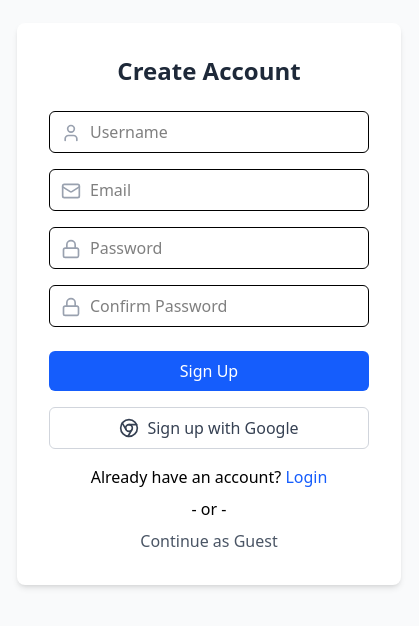
Test case: UserSignup Component › handles signup error with default message
Type "testuser" into the field with placeholder "Username" at (209, 132), box x1=49 y1=111 x2=369 y2=153
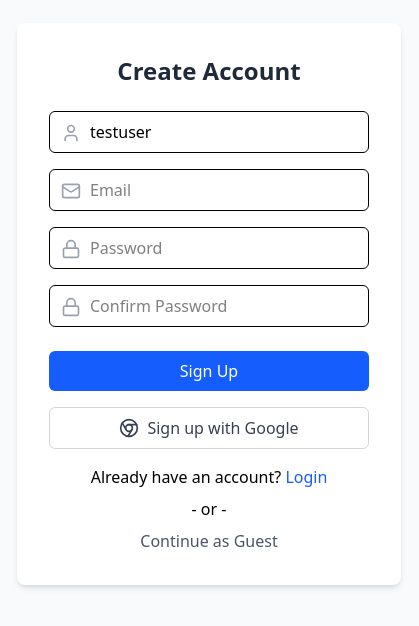
Type "test@example.com" into the field with placeholder "Email" at (209, 190), box x1=49 y1=169 x2=369 y2=211
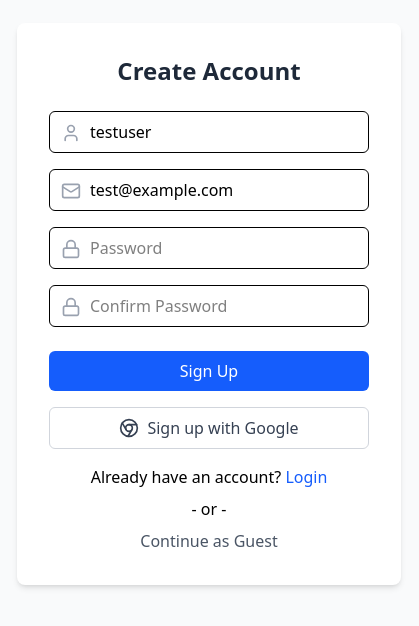
Type "password123" into the password field with placeholder "Password" at (209, 248), box x1=49 y1=227 x2=369 y2=269
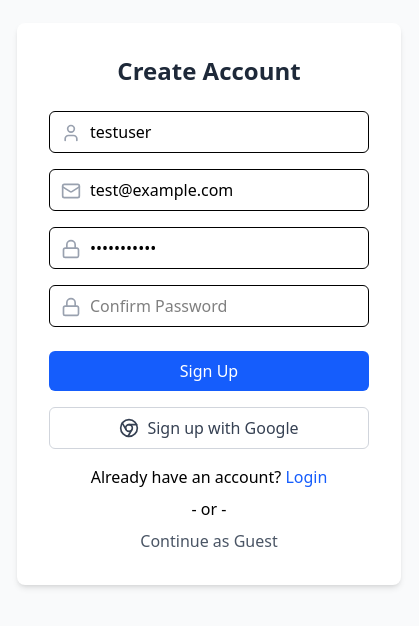
Type "password123" into the password field with placeholder "Confirm Password" at (209, 306), box x1=49 y1=285 x2=369 y2=327
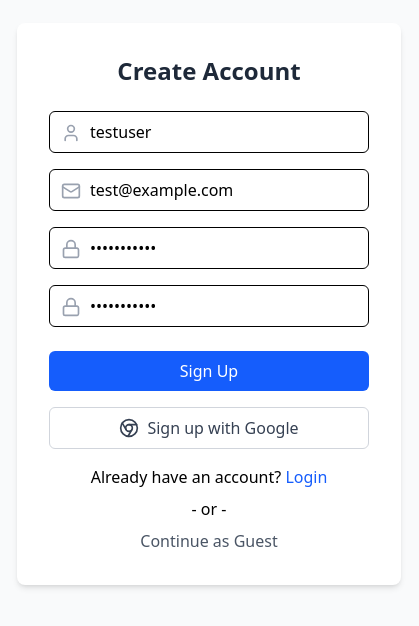
Click the button "Sign Up" at (209, 371), box x1=49 y1=351 x2=369 y2=391
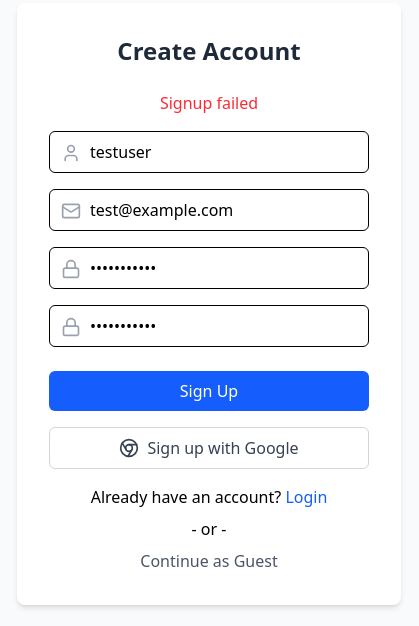
Check: the text "Signup failed" is shown, box x1=160 y1=92 x2=258 y2=114
